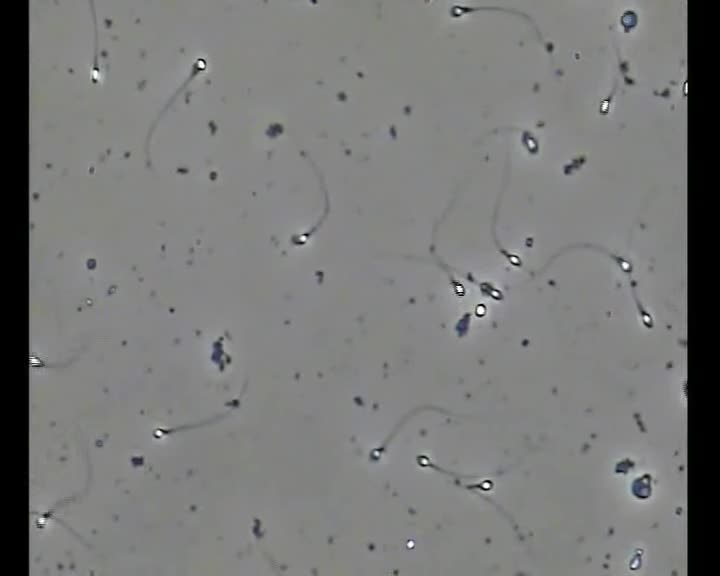spermhead: (34, 511, 51, 529), (503, 251, 522, 267), (368, 445, 385, 461), (192, 57, 207, 75), (291, 231, 310, 245), (640, 309, 653, 328), (89, 65, 102, 83), (416, 454, 432, 468), (600, 96, 612, 114), (452, 280, 465, 296), (153, 427, 170, 439), (29, 354, 44, 367), (474, 303, 487, 317)
